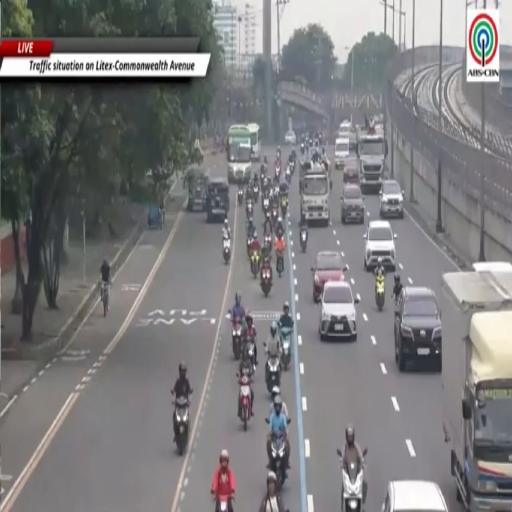bus: (227, 125, 251, 183), (248, 123, 260, 162)
car: (394, 286, 441, 372), (319, 281, 359, 341), (382, 480, 447, 511), (312, 251, 347, 302), (364, 220, 396, 270), (340, 184, 365, 223), (380, 181, 404, 218), (343, 156, 359, 184), (285, 131, 296, 145)
motorcycle: (337, 450, 365, 511), (174, 396, 189, 455), (270, 436, 286, 490), (239, 375, 251, 430), (266, 357, 281, 393), (280, 328, 291, 371), (233, 319, 242, 360), (245, 338, 255, 371), (261, 268, 272, 297), (376, 276, 384, 311), (251, 251, 260, 278), (215, 495, 229, 511), (276, 250, 284, 277), (300, 228, 308, 252), (223, 237, 230, 264), (262, 240, 271, 258), (271, 204, 278, 227), (281, 196, 288, 217), (237, 187, 244, 206), (246, 199, 253, 218), (247, 236, 253, 257), (275, 162, 281, 183), (262, 197, 269, 214), (253, 183, 259, 202), (285, 166, 291, 184), (264, 233, 272, 246)
truck: (440, 271, 511, 511), (357, 130, 387, 194), (300, 164, 330, 226), (335, 135, 349, 169)
